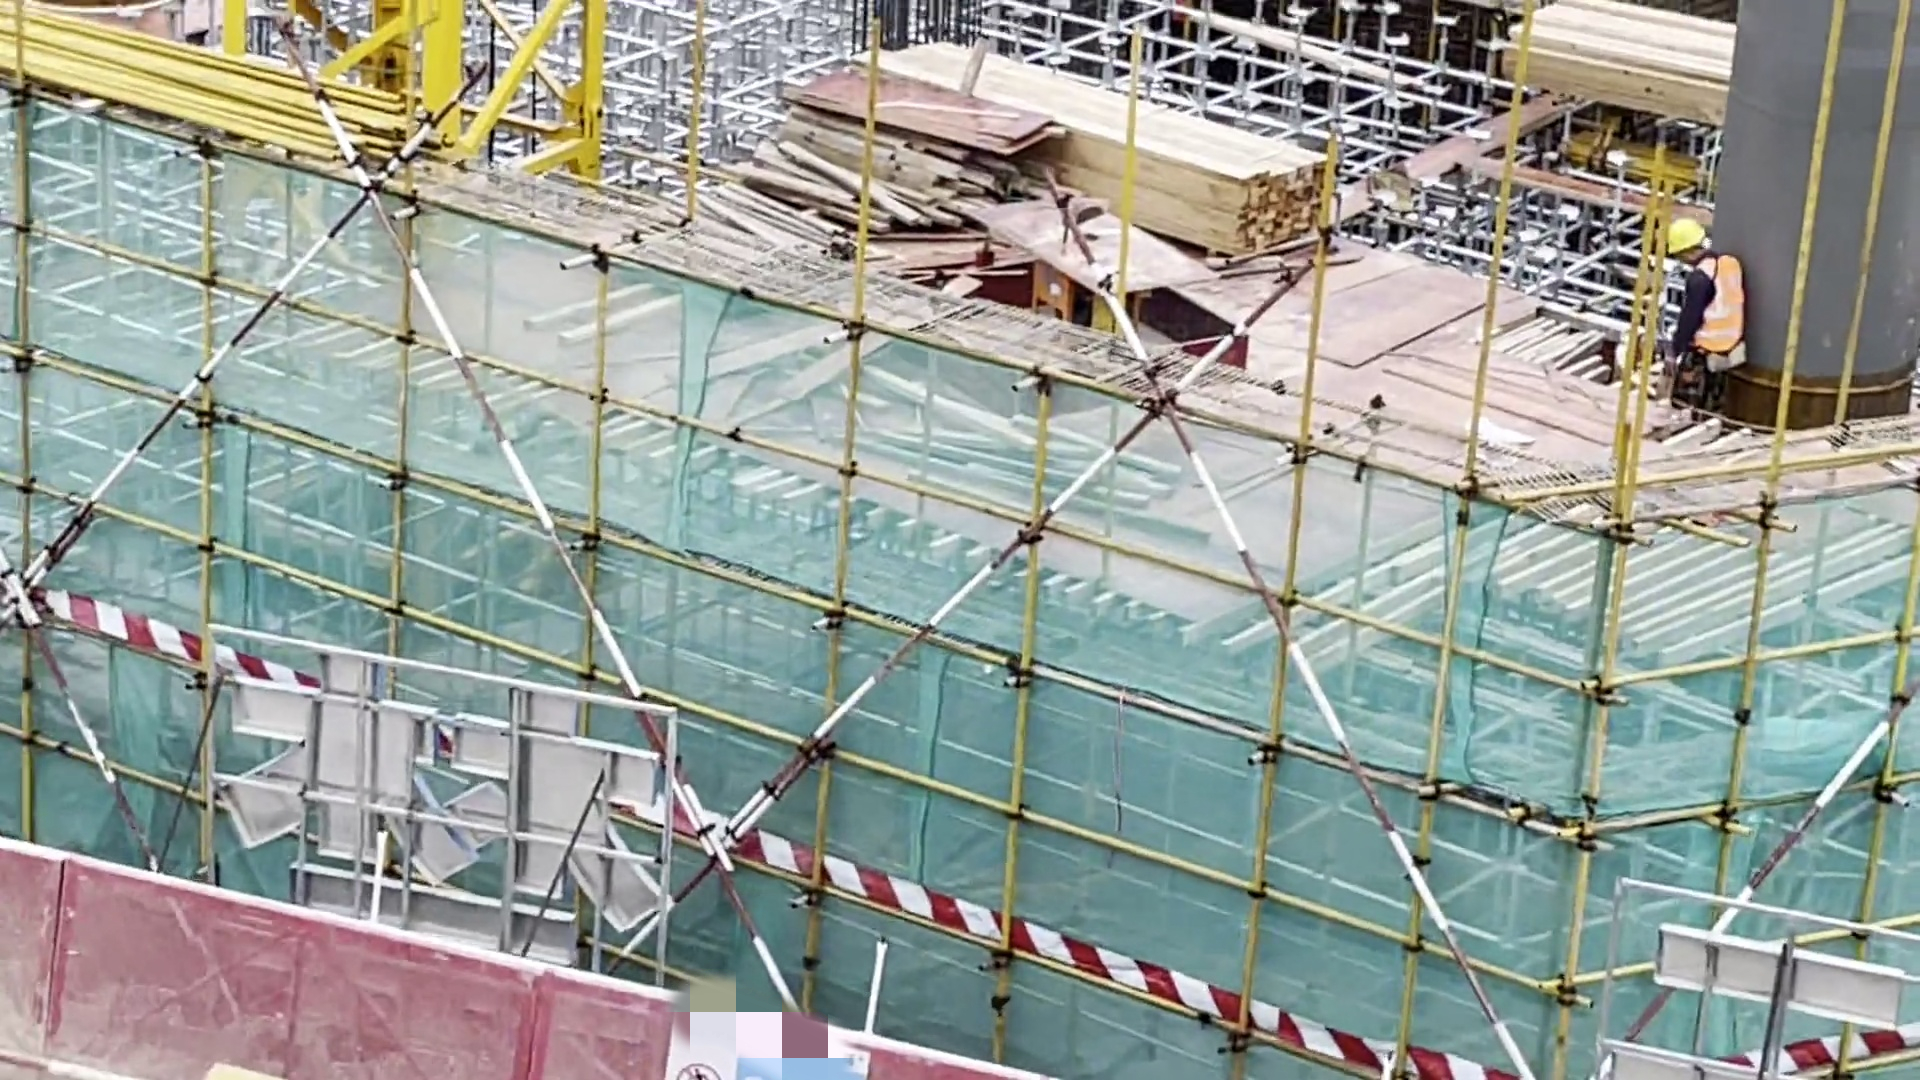cutter: (972, 193, 1225, 330)
helmet: (1652, 207, 1708, 254)
person: (1648, 217, 1740, 412)
vest: (1670, 263, 1738, 355)
wood: (878, 45, 1326, 243), (682, 113, 990, 247)
